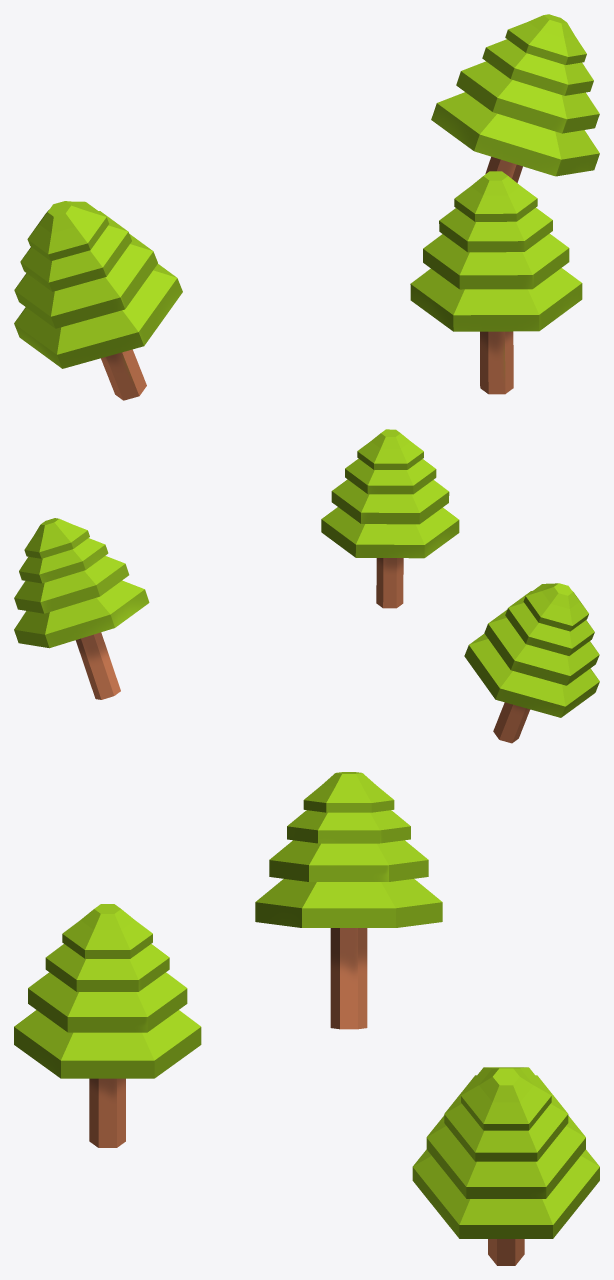
The model's file is treeTile3.obj.
3 renders of one model, top to bottom at view 1: azimuth 30°, elevation 25°; view 2: azimuth 150°, elevation 25°; view 3: azimuth 270°, elevation 25°, orthographic. The views are drawn at different scales.
Parts seen in each view (by area): view 1: TreeTile3_Cylinder.006; view 2: TreeTile3_Cylinder.006; view 3: TreeTile3_Cylinder.006.
Part boxes in pixels (left/top/right/bottom): TreeTile3_Cylinder.006: left=14, top=14, right=599, bottom=400; TreeTile3_Cylinder.006: left=14, top=429, right=599, bottom=743; TreeTile3_Cylinder.006: left=14, top=772, right=599, bottom=1265.
Size of the model in its own units: 5.16 by 1.89 by 3.86.
